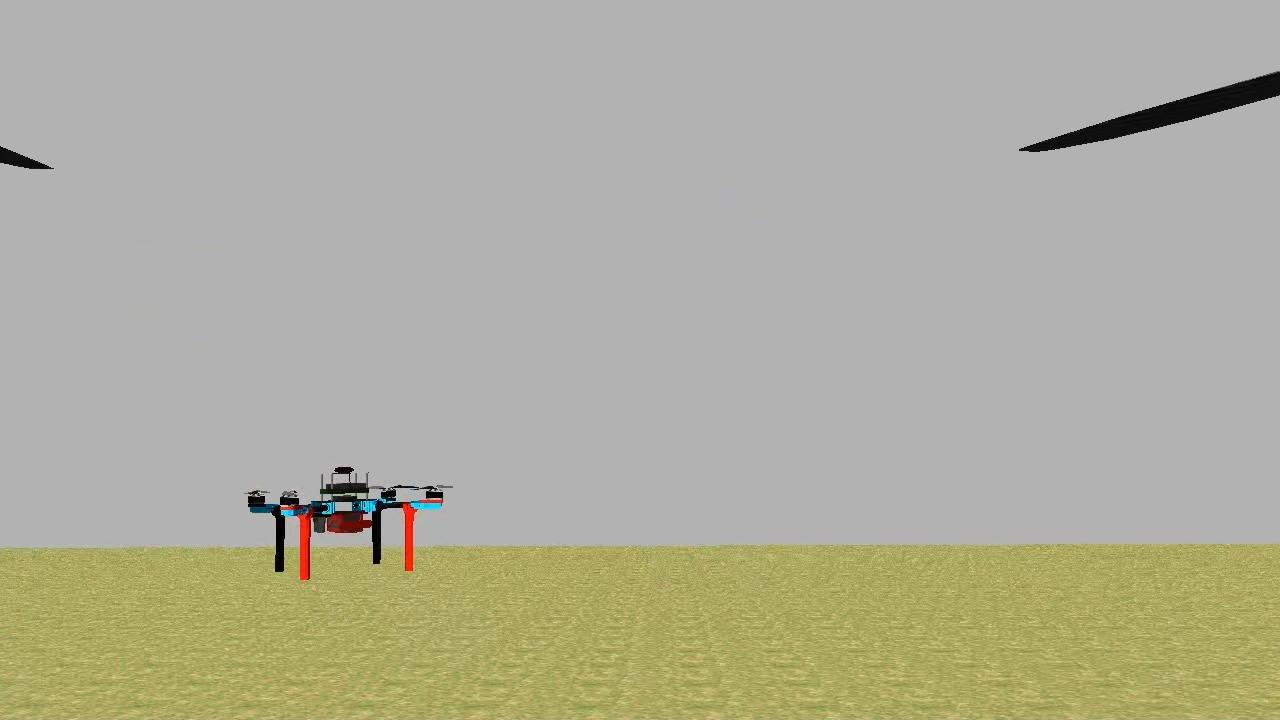UAV: (242, 459, 452, 587)
